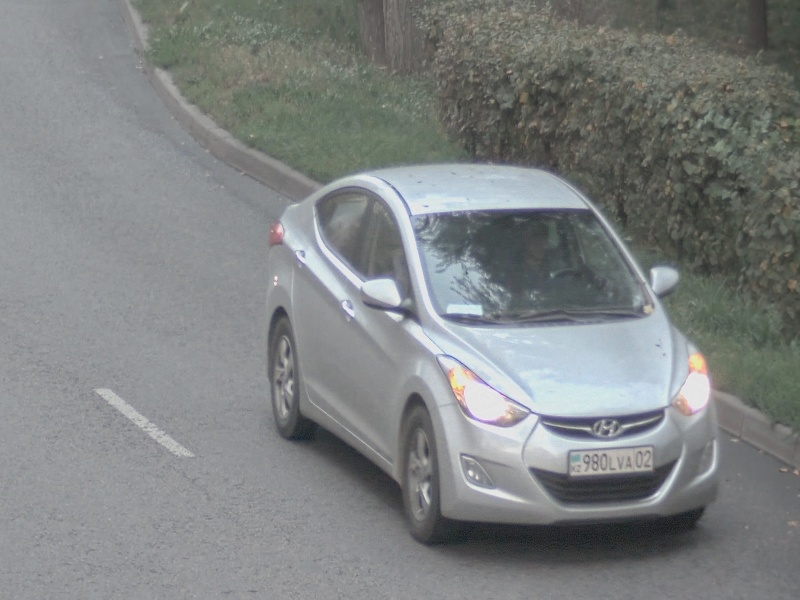plate: (566, 444, 655, 479)
